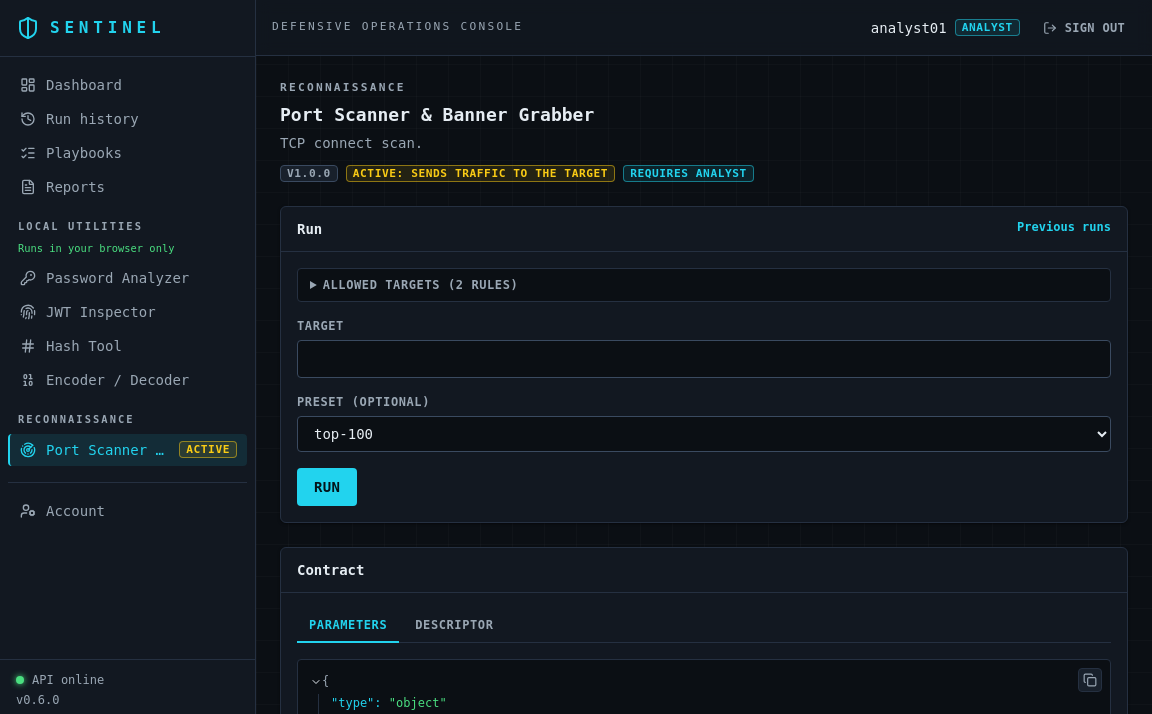
Test: authorised-use gate on active tools › explains a scope denial from the server
The width and height of the screenshot is (1152, 714).
Type "postgres" into the field labelled "Target" at coordinates (704, 359), box [297,340,1111,378]
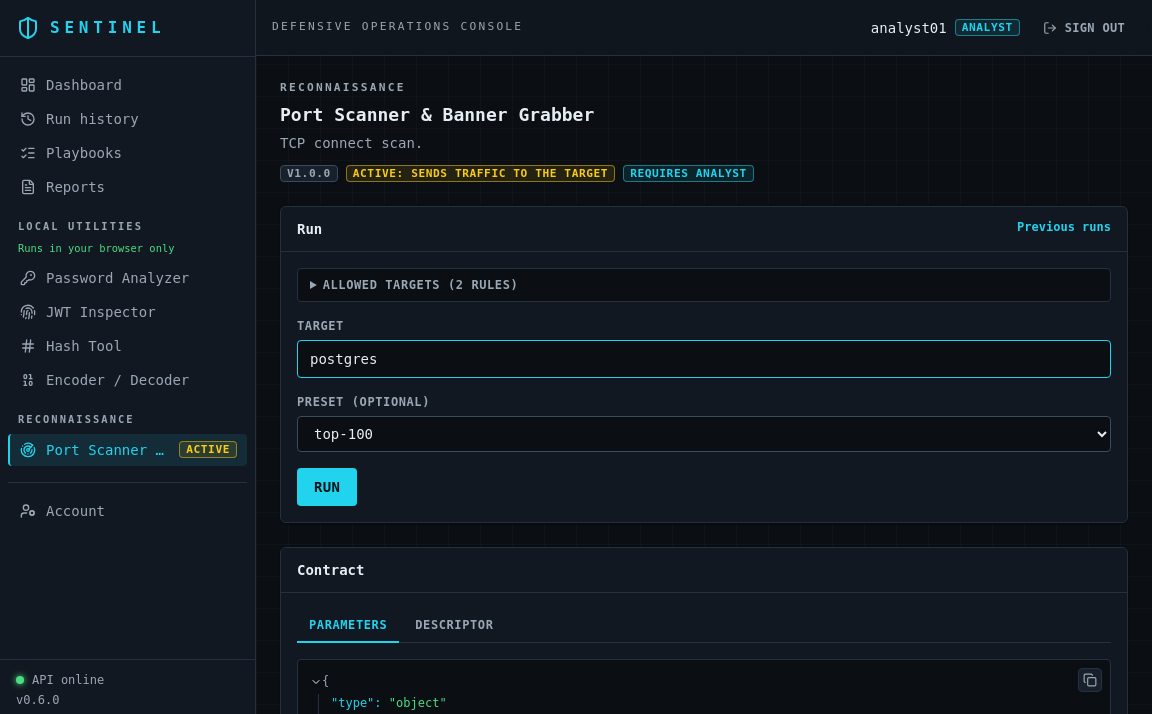
Click the button "Run" at coordinates (327, 487), box [297,468,357,506]
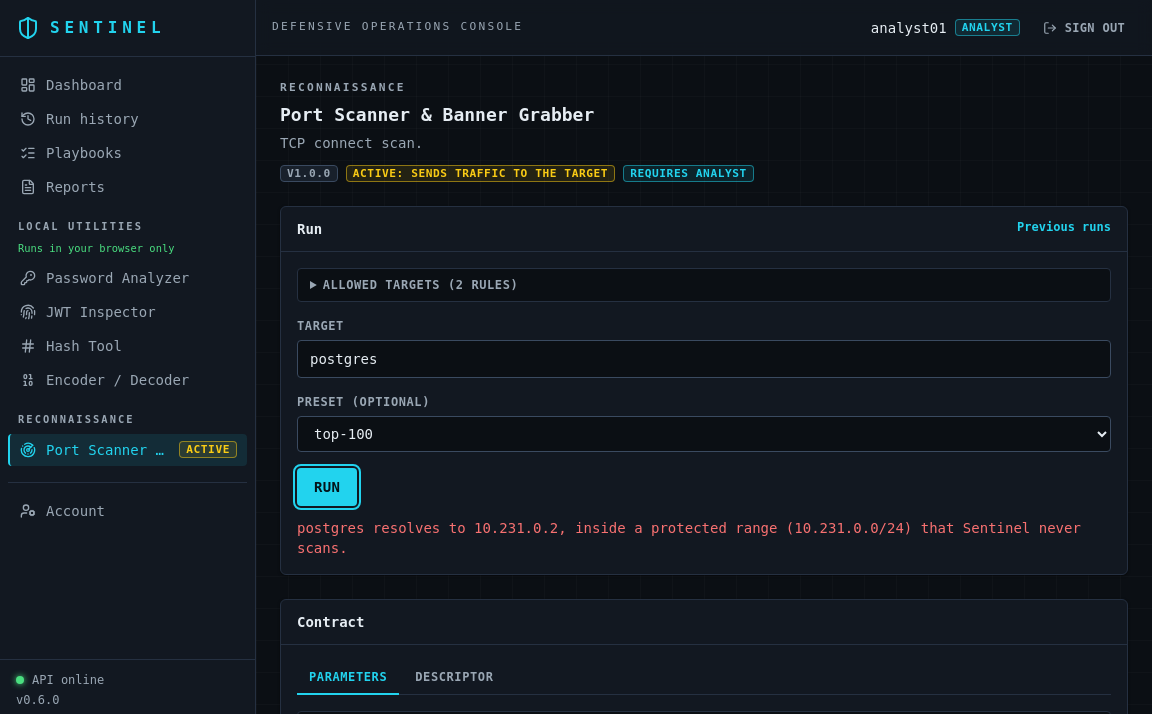
Now the 1st message shows "never scans", box [297,520,1081,556]
